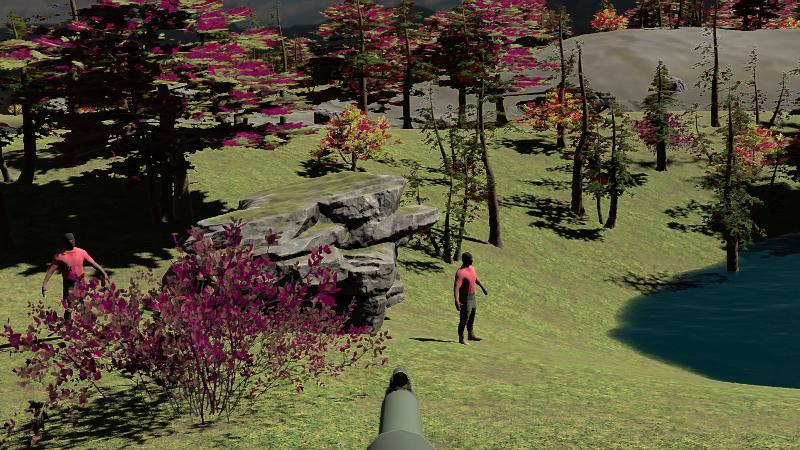Human: (40, 230, 110, 359), (454, 251, 488, 345)
